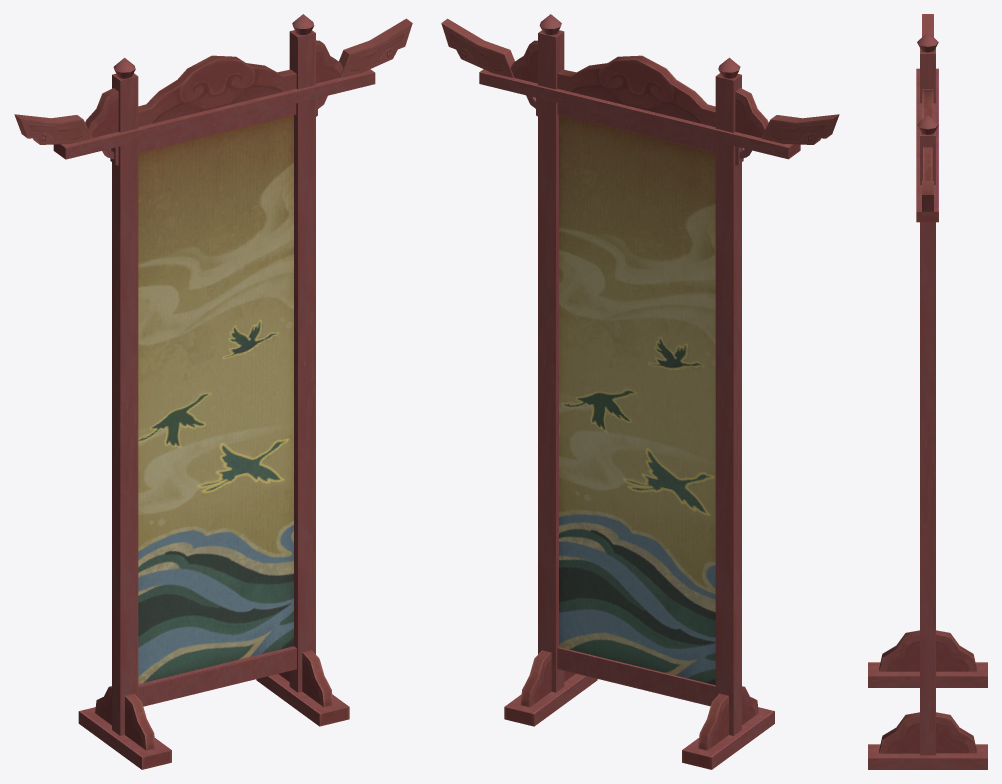
Rendered from Homeworld_Exterior_Ly_Decoration_Prop_DoubleScreen_02_Vo.fbx.
3 renders of one model, left to right at view 1: azimuth 30°, elevation 25°; view 2: azimuth 150°, elevation 25°; view 3: azimuth 270°, elevation 25°, orthographic. The views are drawn at different scales.
Visible parts, largest first — view 1: Area_Ly_Prop_LYG_Hdj_Screen_11_Vo; view 2: Area_Ly_Prop_LYG_Hdj_Screen_11_Vo; view 3: Area_Ly_Prop_LYG_Hdj_Screen_11_Vo.
Boxes of the visible parts, x1,y1,x2,y2 form: Area_Ly_Prop_LYG_Hdj_Screen_11_Vo: (14, 14, 412, 769); Area_Ly_Prop_LYG_Hdj_Screen_11_Vo: (441, 14, 839, 769); Area_Ly_Prop_LYG_Hdj_Screen_11_Vo: (868, 14, 987, 769).
Bounding box in the file's own units: 3.83 × 6.39 × 1.07.
